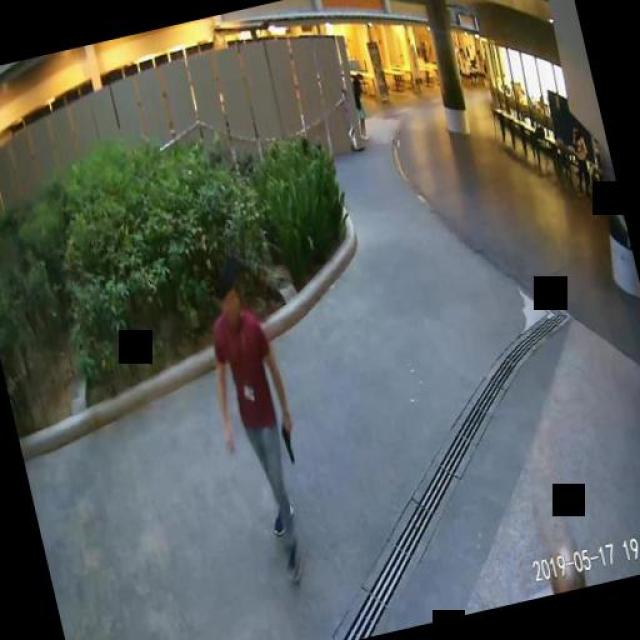gun: (275, 417, 299, 465)
